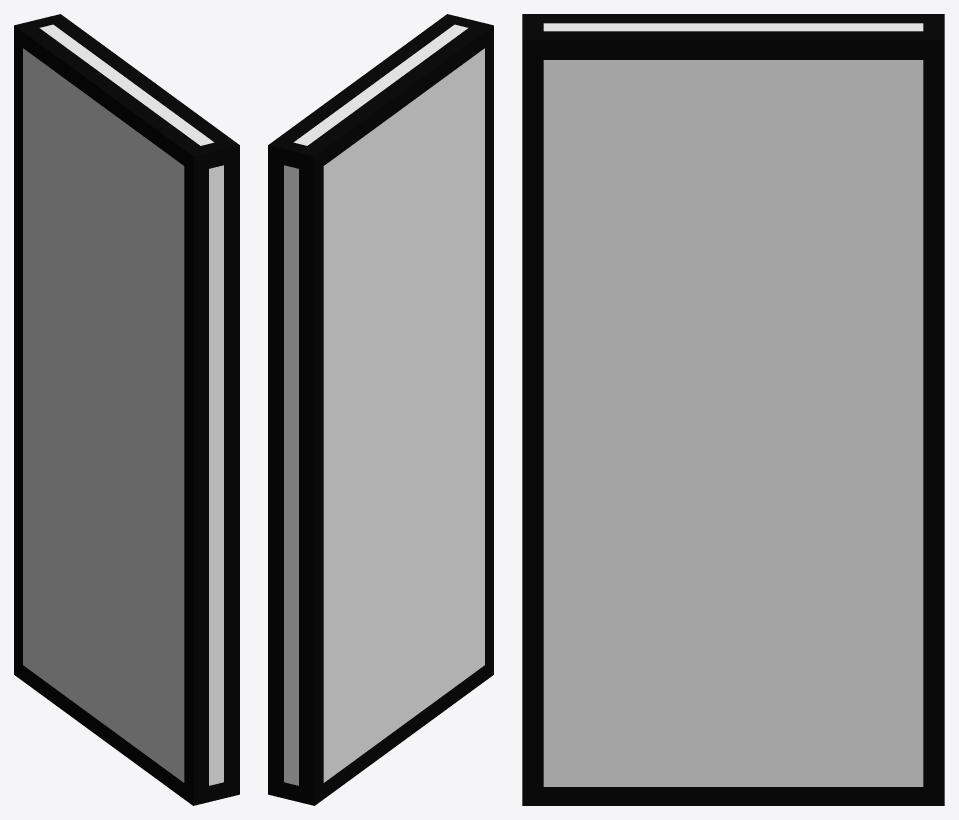
The model's file is door.fbx.
3 views of the same model, side by side, from view 1: azimuth 30°, elevation 25°; view 2: azimuth 150°, elevation 25°; view 3: azimuth 270°, elevation 25° (orthographic). The views are drawn at different scales.
Visible parts, largest first — view 1: Cube; view 2: Cube; view 3: Cube.
Part boxes in pixels (x1,y1,x2,y2): Cube: [14, 14, 239, 805]; Cube: [268, 14, 493, 805]; Cube: [522, 14, 944, 805].
Bounding box in the file's own units: 30 × 400 × 200.
